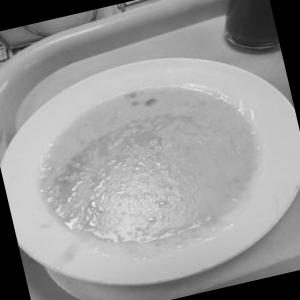porridge: (8, 57, 285, 276)
